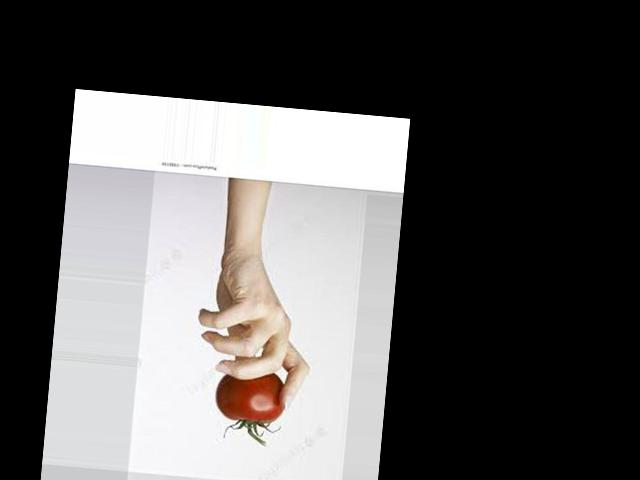tomato: (212, 369, 286, 445)
